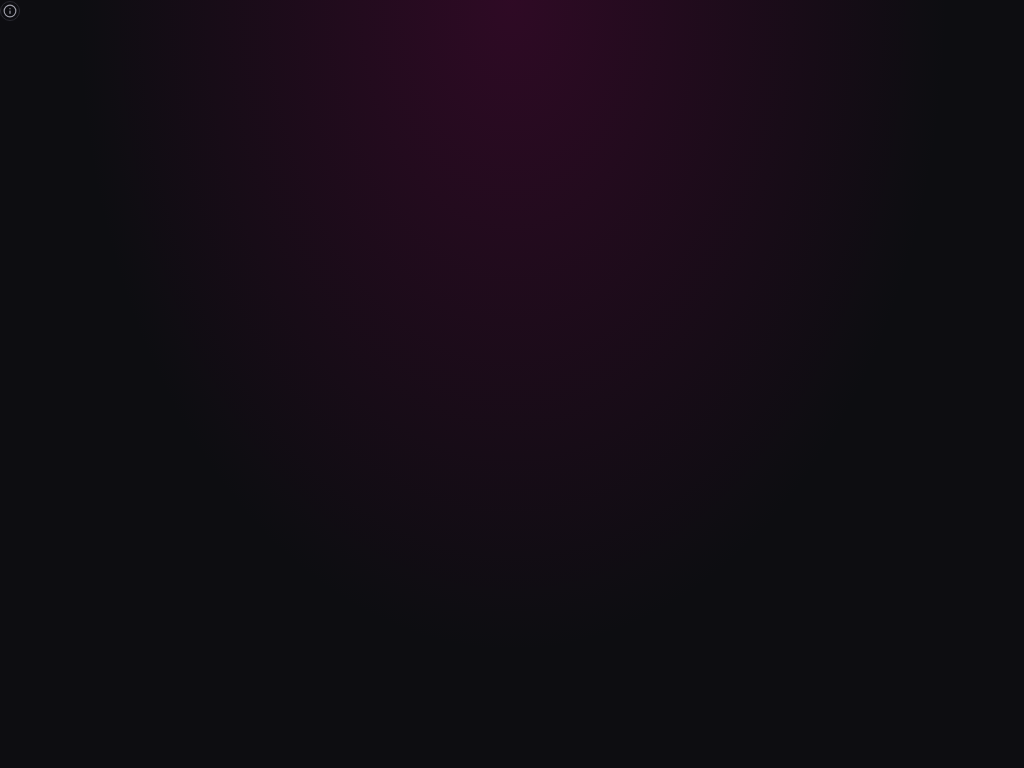
Scenario: ContextHelp › mantém a explicação oculta até o usuário pedir ajuda
The width and height of the screenshot is (1024, 768).
Expected: the text "Intervalo seguro" is not shown
Click the button named "Ajuda: intervalo entre posts". click: (10, 11)
box: x1=0 y1=1 x2=20 y2=21
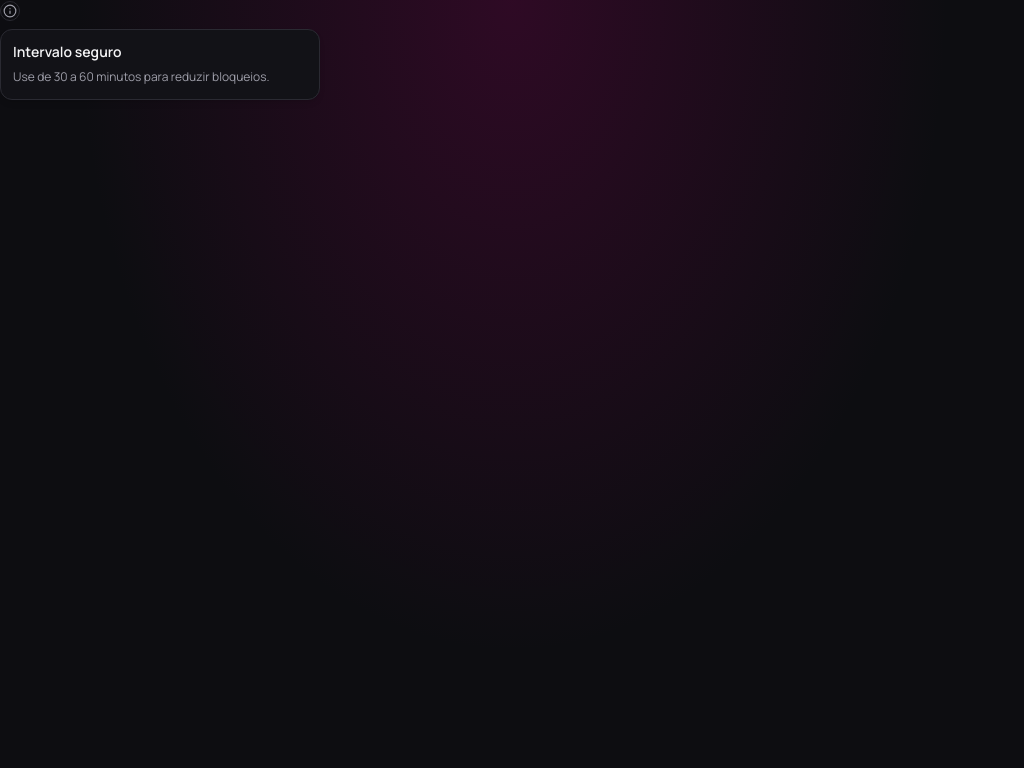
Result: the text "Intervalo seguro" is shown at x1=13 y1=42 x2=122 y2=61
Result: the text "Use de 30 a 60 minutos para reduzir bloqueios." is shown at x1=13 y1=67 x2=307 y2=87
